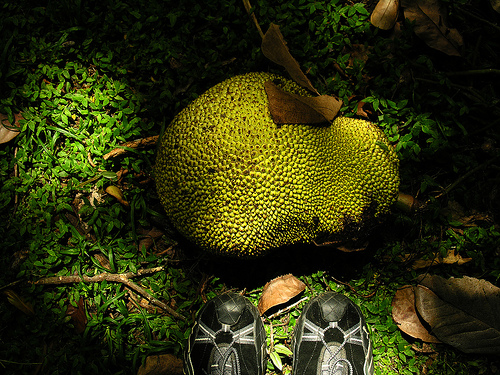jackfruit: (157, 72, 399, 254)
